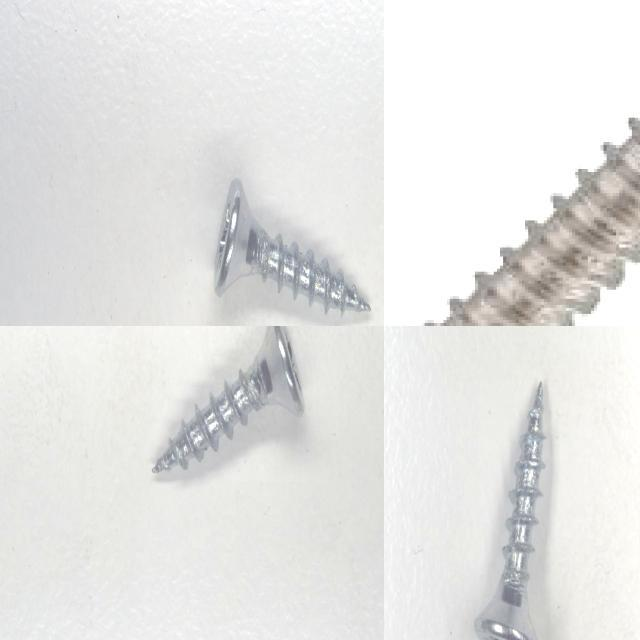Screw: (422, 118, 640, 326), (153, 326, 305, 472), (214, 178, 370, 312), (475, 382, 545, 640)
